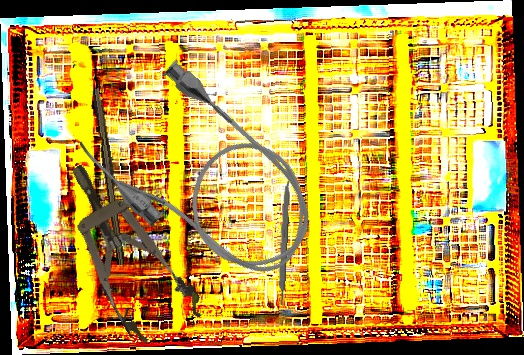Cannula: (69, 48, 341, 310)
Scalpel Handle: (89, 87, 131, 266), (276, 180, 291, 306)
Speculum: (43, 146, 208, 352)
